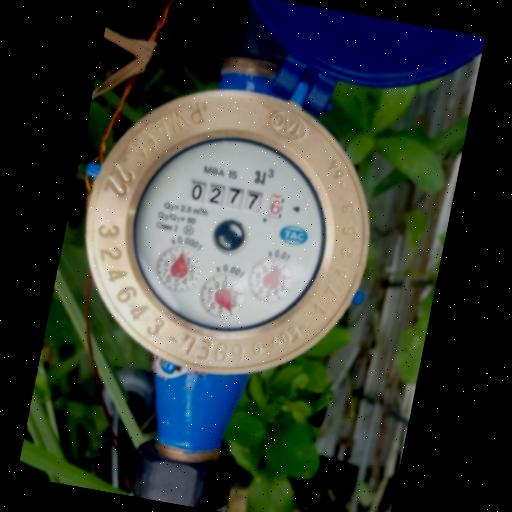0: (188, 181, 206, 203)
2: (207, 184, 224, 207)
6: (267, 193, 284, 218)
7: (245, 190, 263, 213), (226, 187, 243, 210)
border_water_meter_number: (185, 177, 287, 220)
